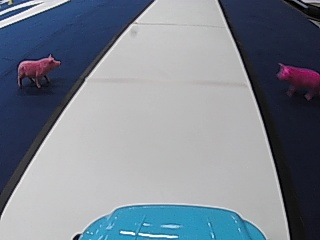pig: (274, 61, 317, 101), (15, 52, 60, 87)
